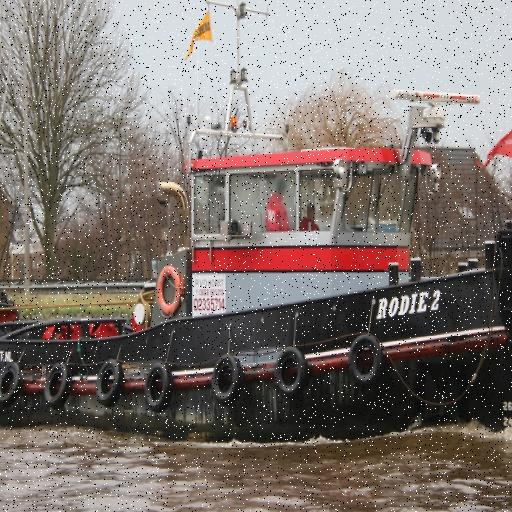tugboat: (1, 1, 512, 461)
